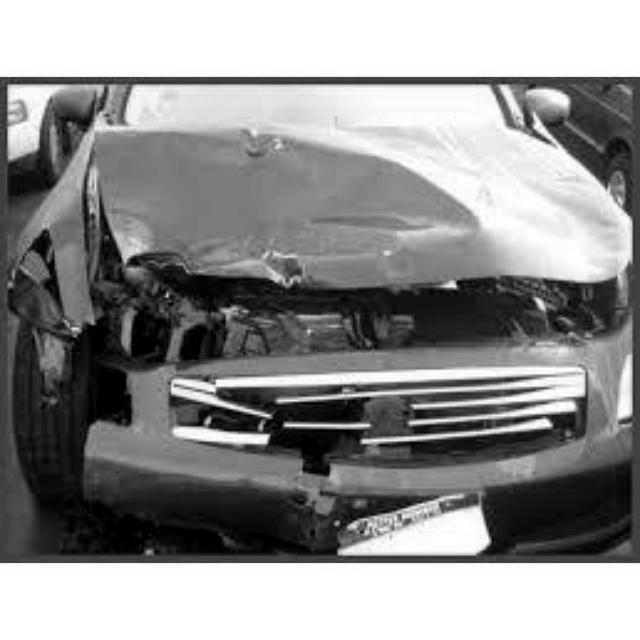bonnet-dent: (95, 119, 593, 297)
front-bumper-dent: (127, 363, 588, 546)
